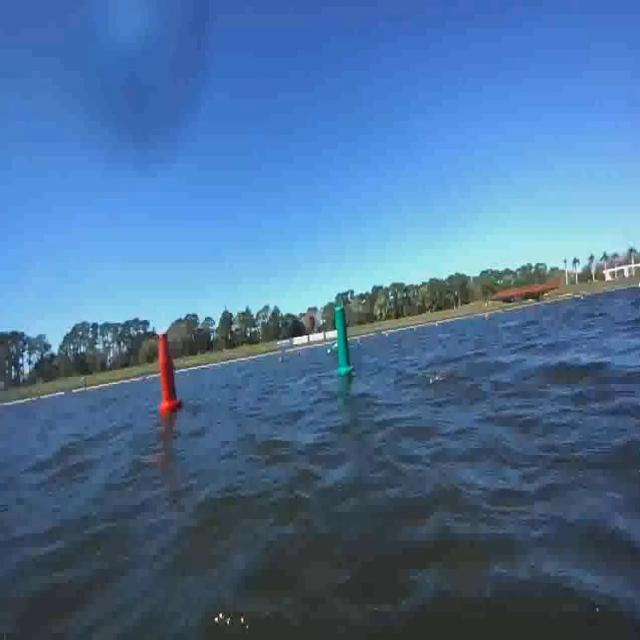green-column-buoy: (336, 305, 355, 375)
red-column-buoy: (158, 335, 182, 414)
